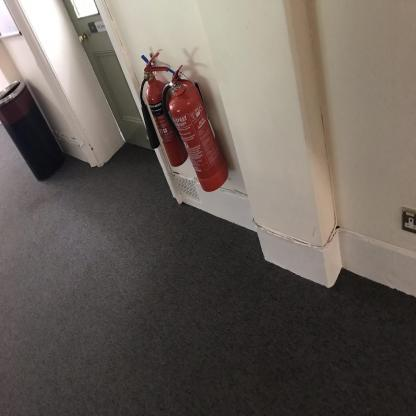Fire Extinguisher: (133, 44, 240, 193)
